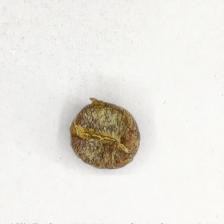NG: (72, 102, 136, 168)
